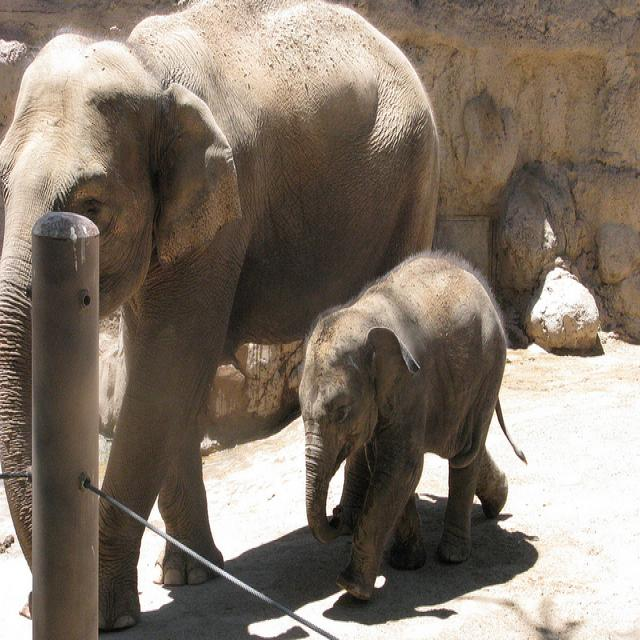Elephant: (0, 0, 440, 631), (298, 248, 527, 601)
